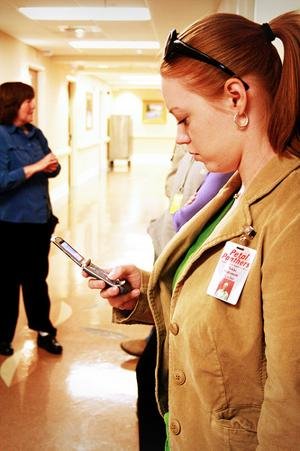person: (82, 13, 300, 450)
